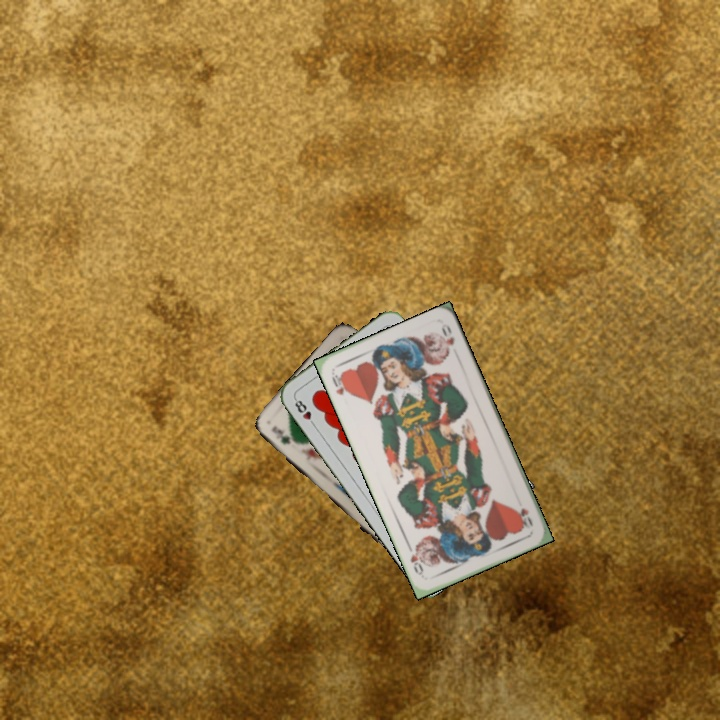GK: (267, 421, 302, 449)
H8: (290, 394, 319, 430)
HO: (327, 368, 352, 398), (514, 504, 536, 531)
